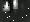person: (4, 1, 12, 14), (14, 2, 19, 13)
